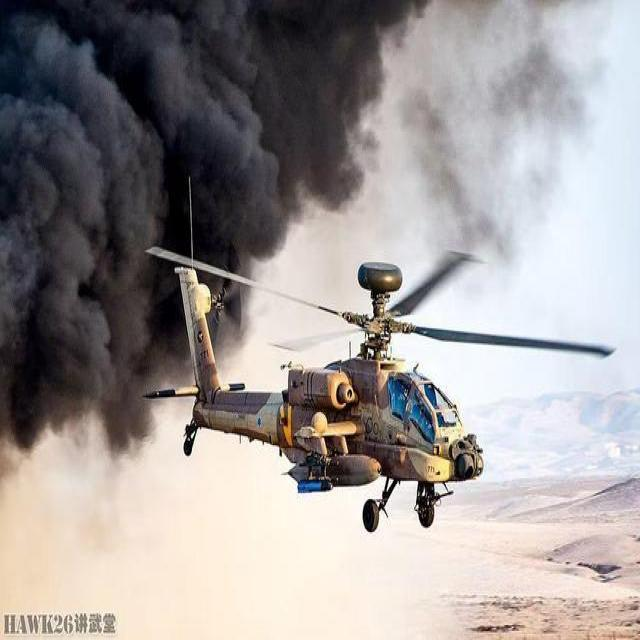MIL_HELO: (141, 217, 626, 535)
